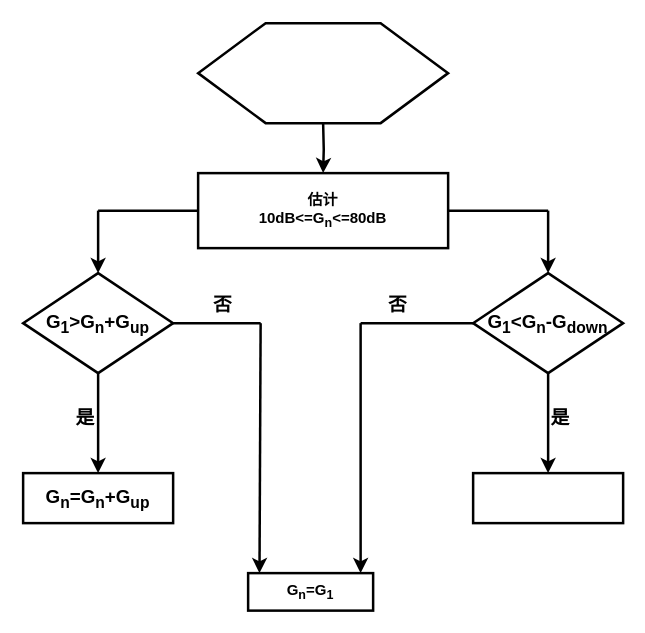
Some shapes in this 645 by 633 pixel diagram are drawn without their labels. Each missing label, with the centre of its shape:
C up =0.0337435 C down =0.135418: the point at 322,72
Gn=Gn-Gdown: the point at 547,497
